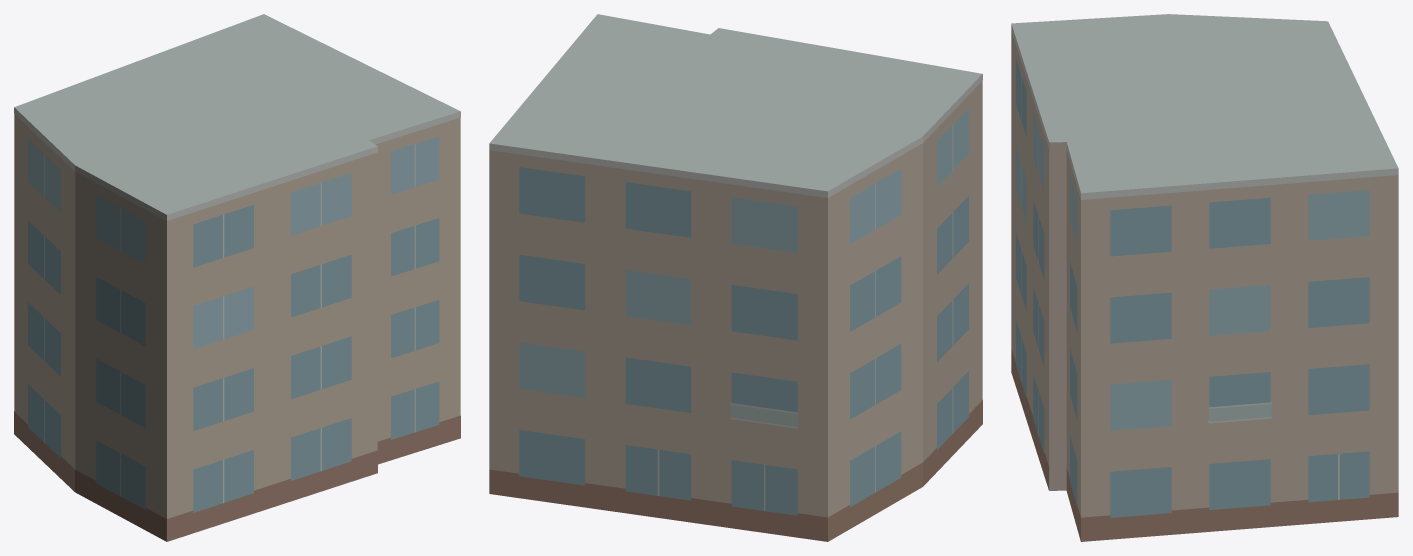
The model's file is survey-upis-32741568.glb.
The picture shows the model from 3 angles, left to right: view 1: azimuth 30°, elevation 25°; view 2: azimuth 150°, elevation 25°; view 3: azimuth 270°, elevation 25°; orthographic projection. The views are drawn at different scales.
Visible parts, largest first — view 1: survey-upis-32741568.tmp; view 2: survey-upis-32741568.tmp; view 3: survey-upis-32741568.tmp.
Part boxes in pixels (<box>): survey-upis-32741568.tmp: <box>14,14,460,541</box>; survey-upis-32741568.tmp: <box>489,14,982,541</box>; survey-upis-32741568.tmp: <box>1011,14,1398,541</box>.
Size of the model in its own units: 14.13 by 12.8 by 12.9.
